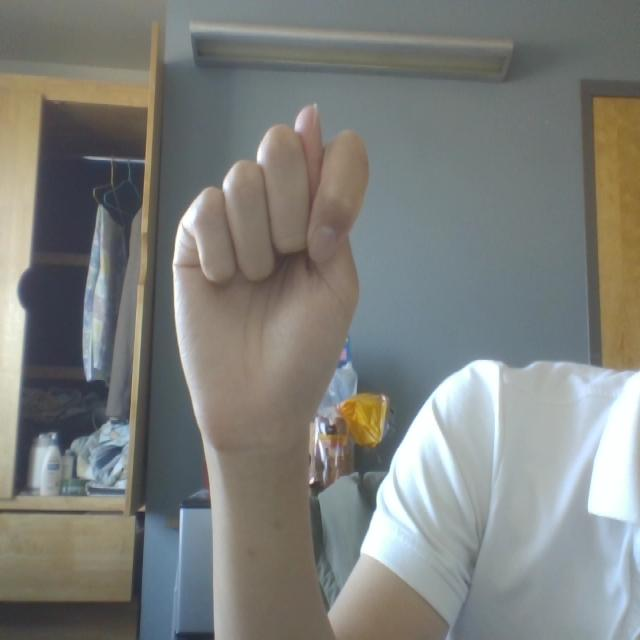T: (141, 58, 408, 484)
